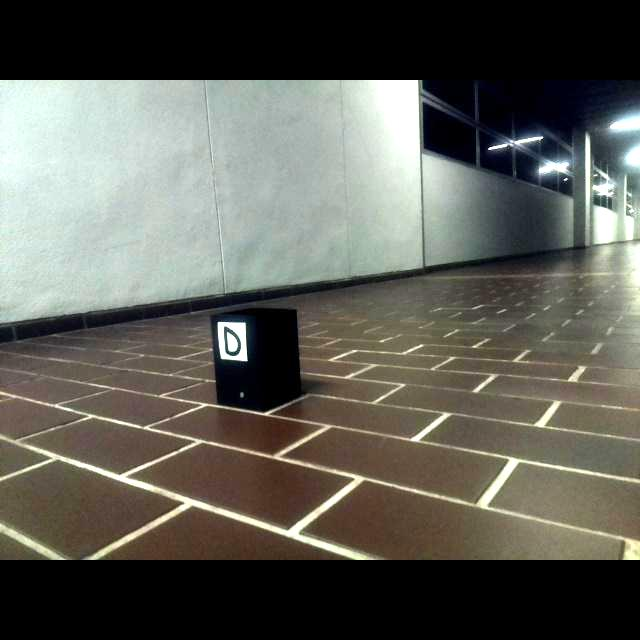D: (223, 326, 242, 357)
